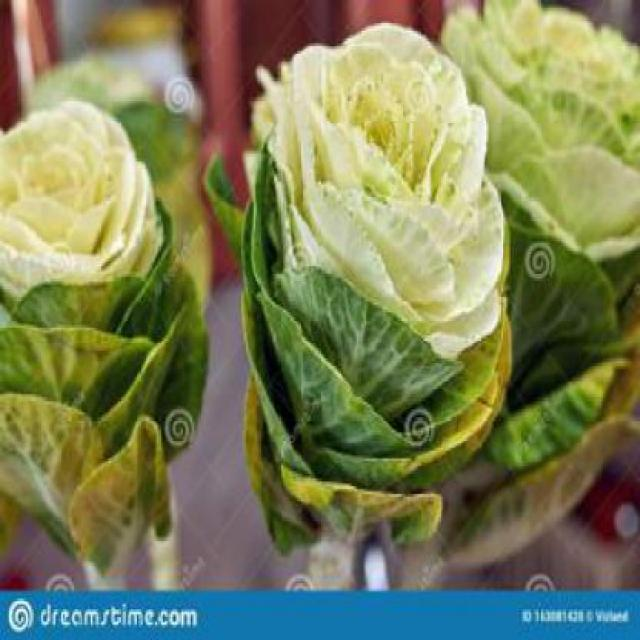Flower: (268, 21, 507, 364), (2, 95, 165, 299)
